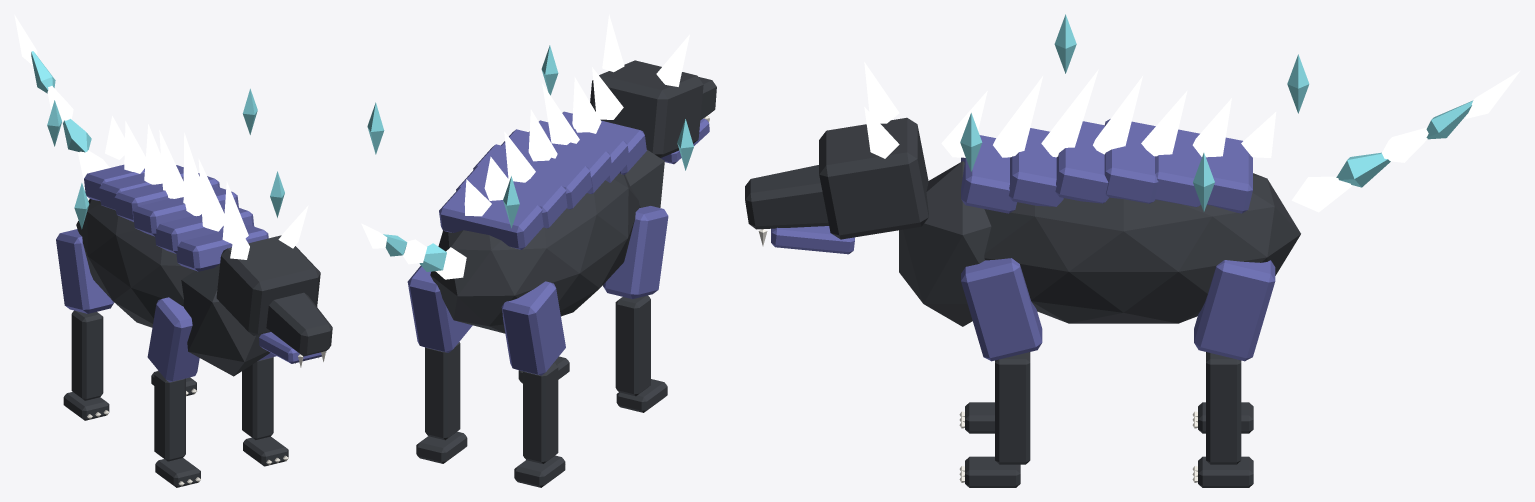
Rendered from Loup_Cristal.fbx.
The picture shows the model from 3 angles, left to right: view 1: azimuth 30°, elevation 25°; view 2: azimuth 150°, elevation 25°; view 3: azimuth 270°, elevation 25°; orthographic projection. The views are drawn at different scales.
Visible parts, largest first — view 1: Loup_Cristal_Metal, Loup_Cristal_Indigo, Loup_Cristal_Cristal, Loup_Cristal_Noyau; view 2: Loup_Cristal_Metal, Loup_Cristal_Indigo, Loup_Cristal_Cristal, Loup_Cristal_Noyau; view 3: Loup_Cristal_Metal, Loup_Cristal_Indigo, Loup_Cristal_Cristal, Loup_Cristal_Noyau.
Boxes of the visible parts, left/top/right/bottom form: Loup_Cristal_Metal: left=63, top=199, right=332, bottom=487; Loup_Cristal_Indigo: left=56, top=164, right=326, bottom=382; Loup_Cristal_Cristal: left=14, top=14, right=308, bottom=259; Loup_Cristal_Noyau: left=31, top=51, right=284, bottom=229; Loup_Cristal_Metal: left=416, top=60, right=716, bottom=487; Loup_Cristal_Indigo: left=407, top=111, right=709, bottom=375; Loup_Cristal_Cristal: left=361, top=14, right=689, bottom=279; Loup_Cristal_Noyau: left=367, top=45, right=693, bottom=271; Loup_Cristal_Metal: left=745, top=117, right=1300, bottom=487; Loup_Cristal_Indigo: left=771, top=119, right=1275, bottom=361; Loup_Cristal_Cristal: left=864, top=62, right=1520, bottom=212; Loup_Cristal_Noyau: left=960, top=14, right=1473, bottom=211.
Bounding box in the file's own units: 315 × 386 × 699.
